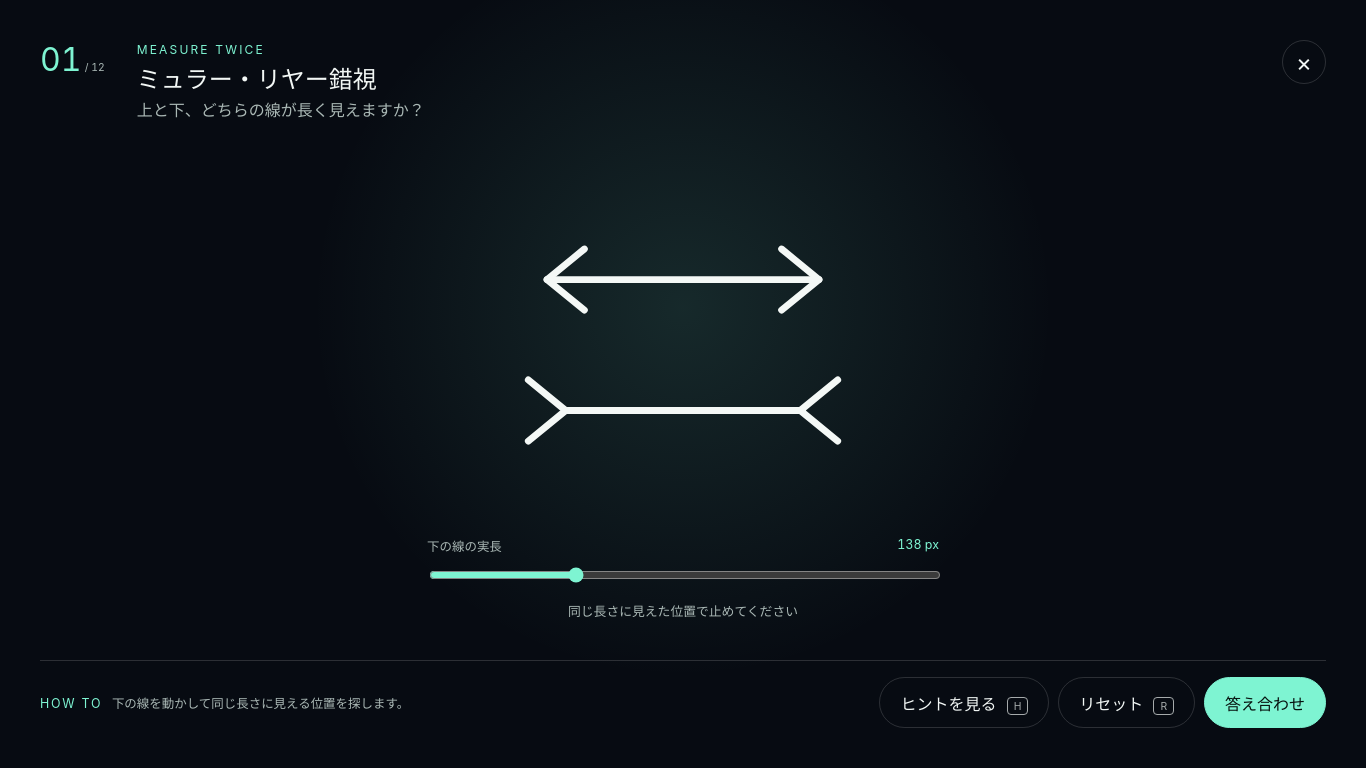
it: ExhibitExperience › resets local values and returns to illusion mode
Set the slider named "下の線の実長" to "180" at (784, 575), box [429,567,941,583]
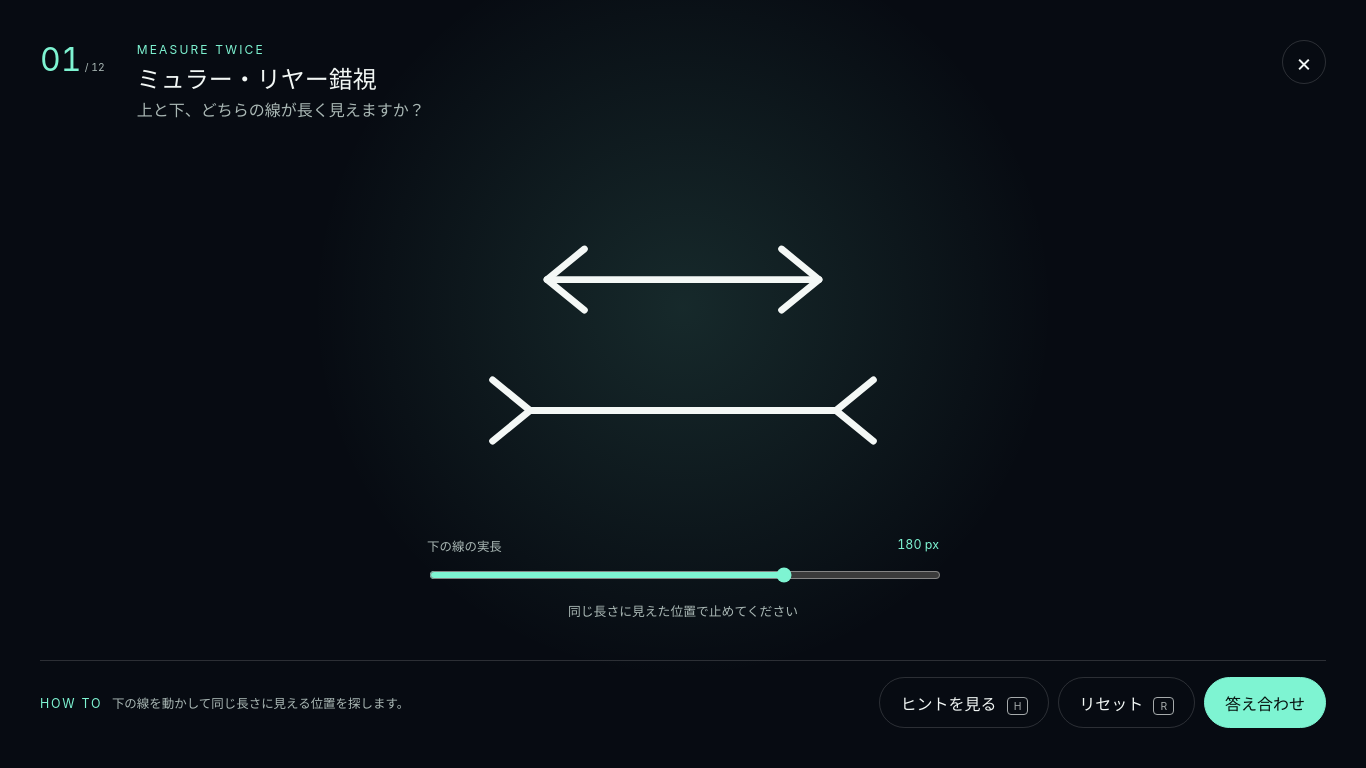
Click the button "答え合わせ" at (1265, 703), box [1204,677,1326,728]
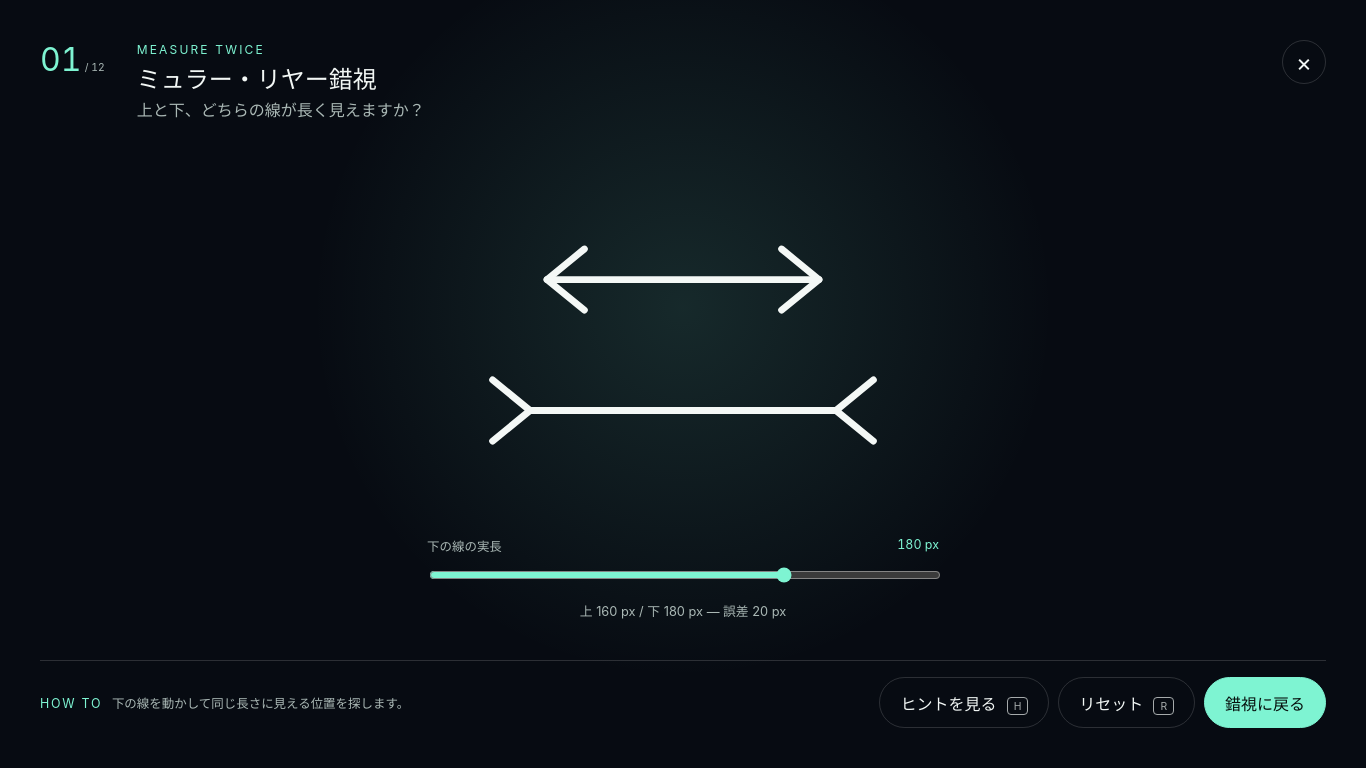
Click the button "リセット R" at (1127, 703), box [1058,677,1195,728]
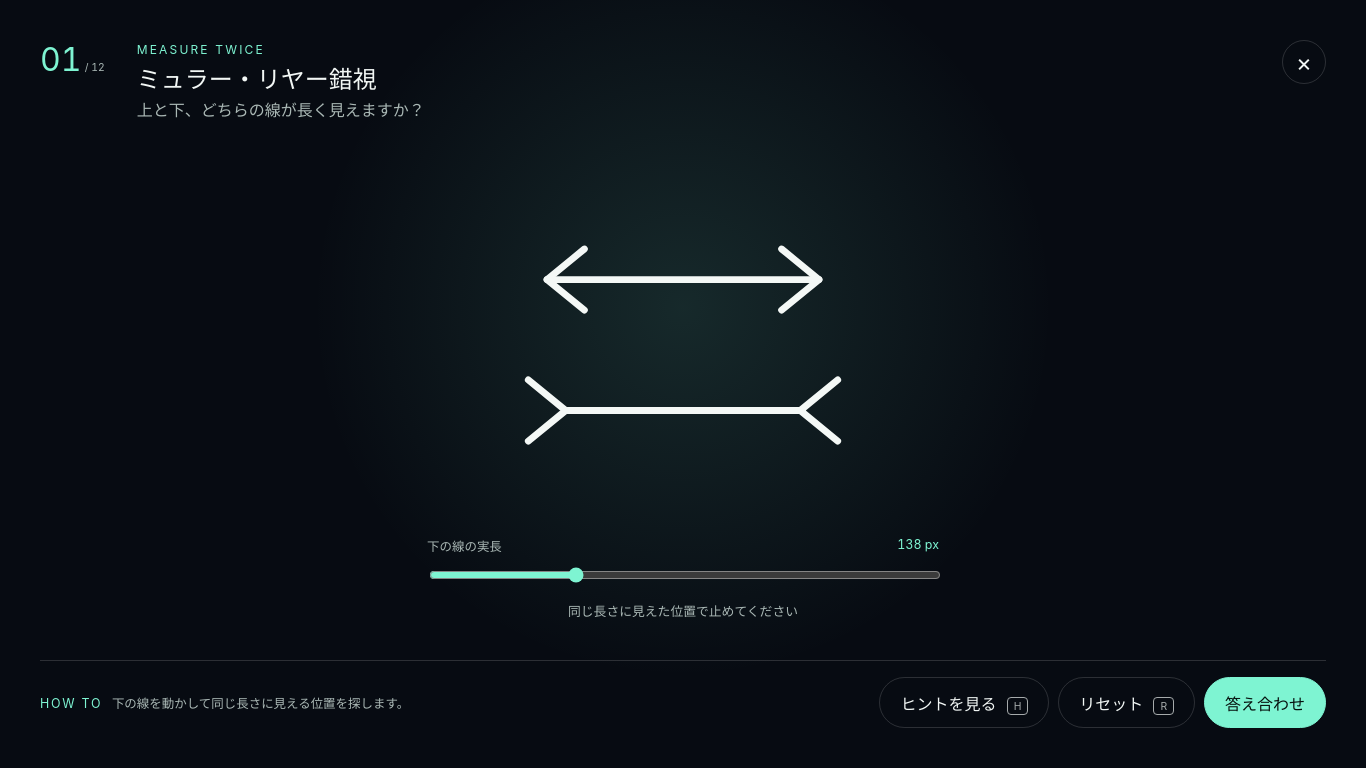
Now the slider named "下の線の実長" holds "138", box [429,567,941,583]
Now the button "答え合わせ" is shown, box [1204,677,1326,728]
